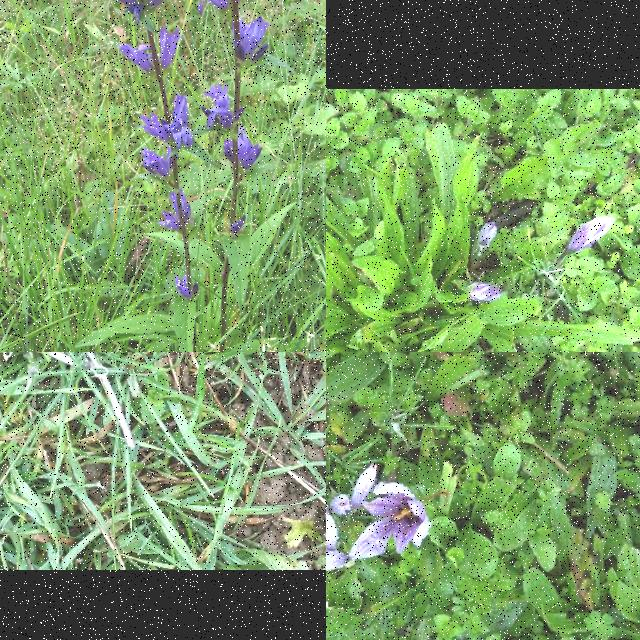flower: (350, 482, 432, 558), (568, 216, 614, 254), (350, 463, 378, 515), (468, 282, 504, 302), (326, 547, 349, 573), (477, 222, 497, 248), (326, 513, 338, 551), (331, 494, 351, 516)
